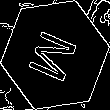M_E: (25, 24, 85, 86)
